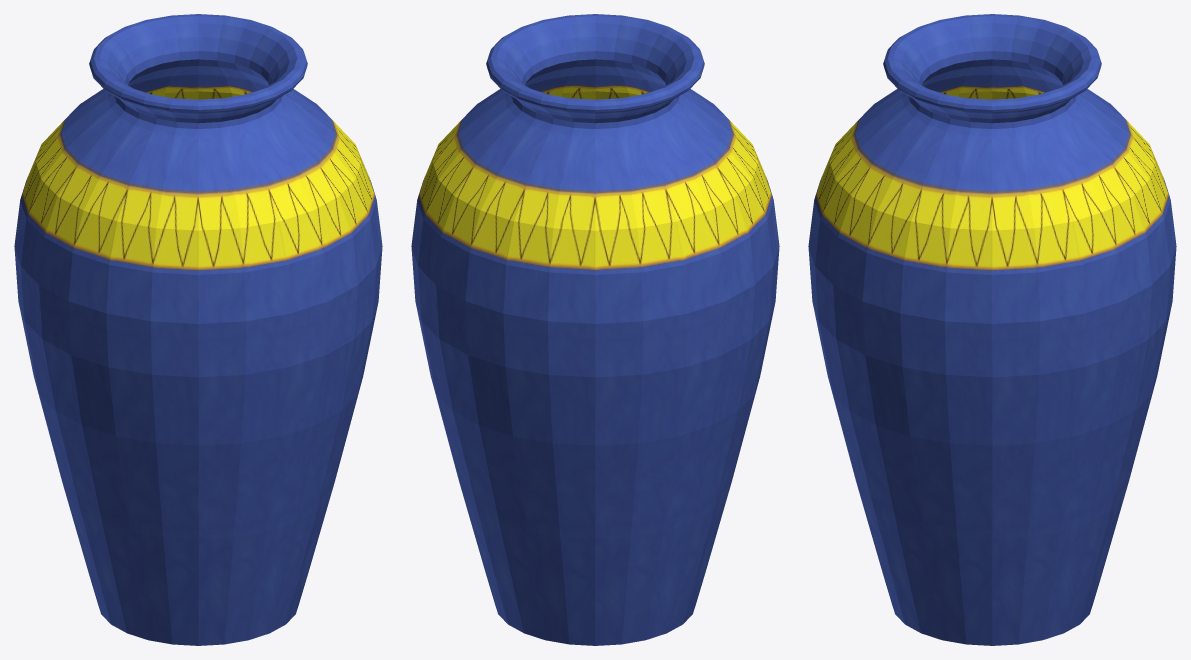
The model's file is sweethome3d-scopia-vase-43.glb.
3 renders of one model, left to right at view 1: azimuth 30°, elevation 25°; view 2: azimuth 150°, elevation 25°; view 3: azimuth 270°, elevation 25°, orthographic.
Parts seen in each view (by area): view 1: jar_Plane; view 2: jar_Plane; view 3: jar_Plane.
Boxes of the visible parts, left/top/right/bottom form: jar_Plane: left=14, top=14, right=382, bottom=645; jar_Plane: left=411, top=14, right=779, bottom=645; jar_Plane: left=808, top=14, right=1176, bottom=645.
Size of the model in its own units: 1.35 by 2.2 by 1.35.
2 materials, 2 textured.
